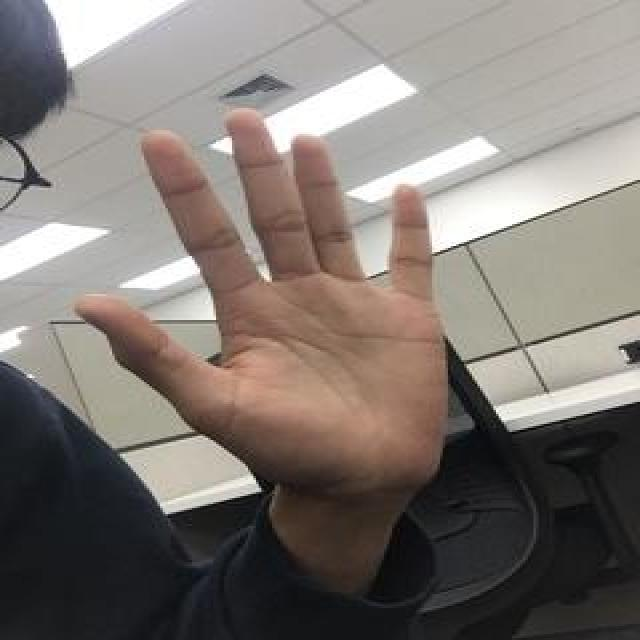hand: (73, 102, 455, 490)
